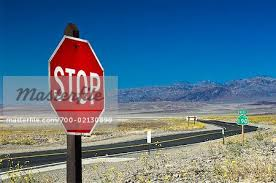Stop: (44, 31, 111, 145)
